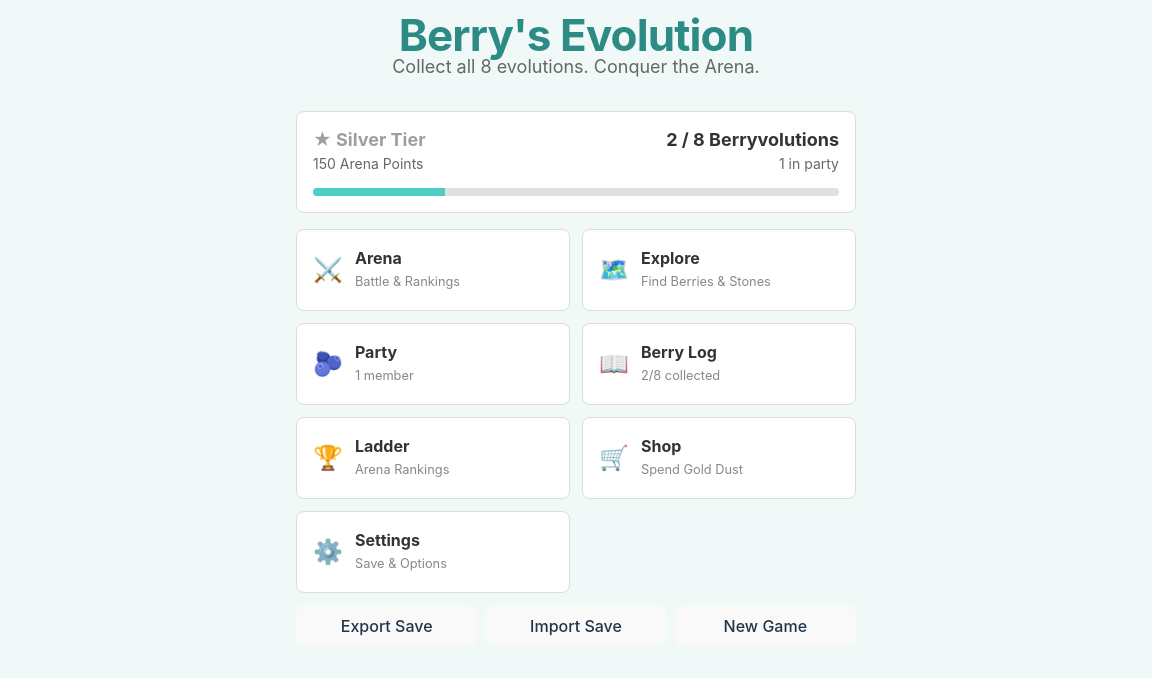
Test case: MainMenu › shows confirm dialog when New Game clicked with active save
(page scrolled)
Click the button "New Game". click: (765, 626)
box: [675, 605, 856, 646]
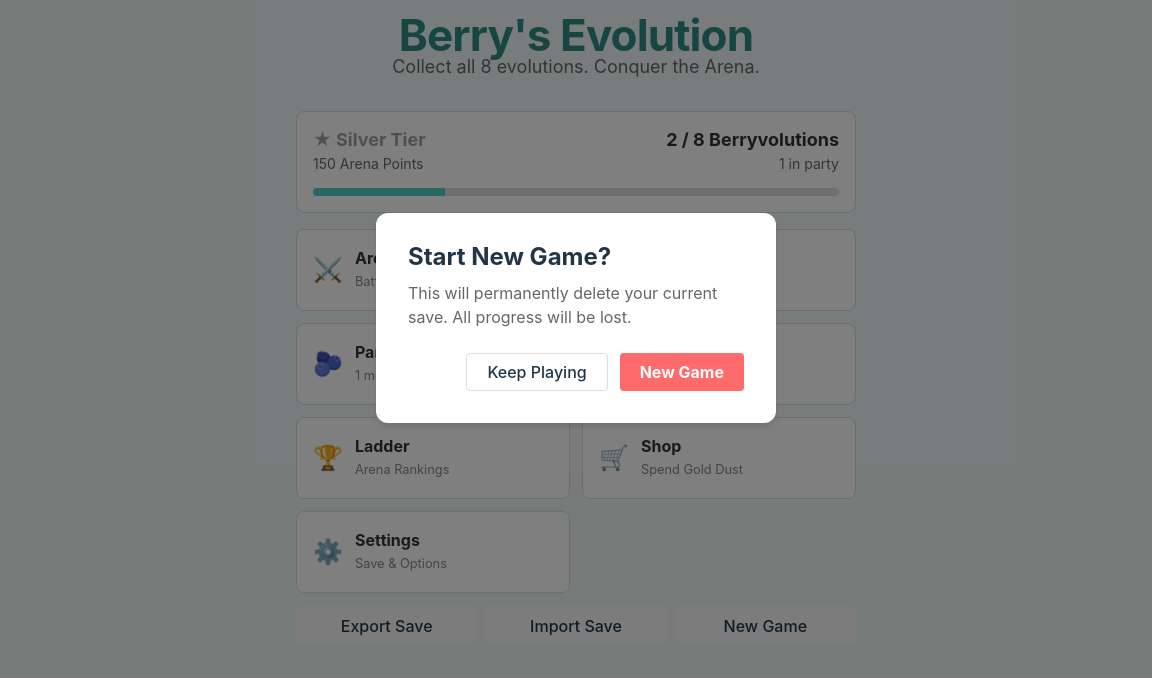
Now the text "Start New Game?" is shown, box [408, 242, 611, 271]
